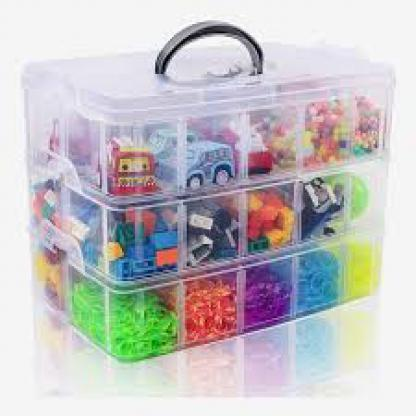plastic_box: (6, 4, 403, 358)
